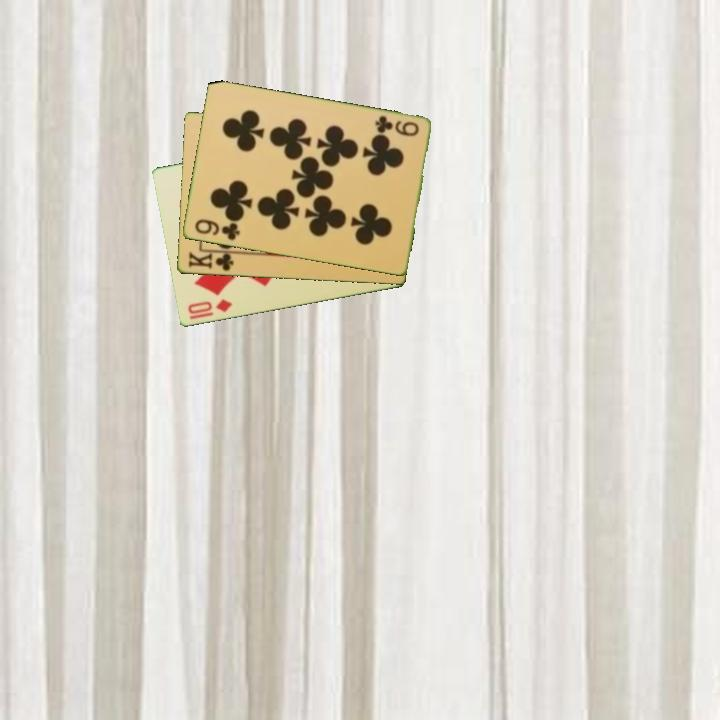10d: (184, 296, 235, 317)
9c: (371, 112, 422, 140), (191, 216, 242, 243)
Kc: (185, 248, 240, 274)
